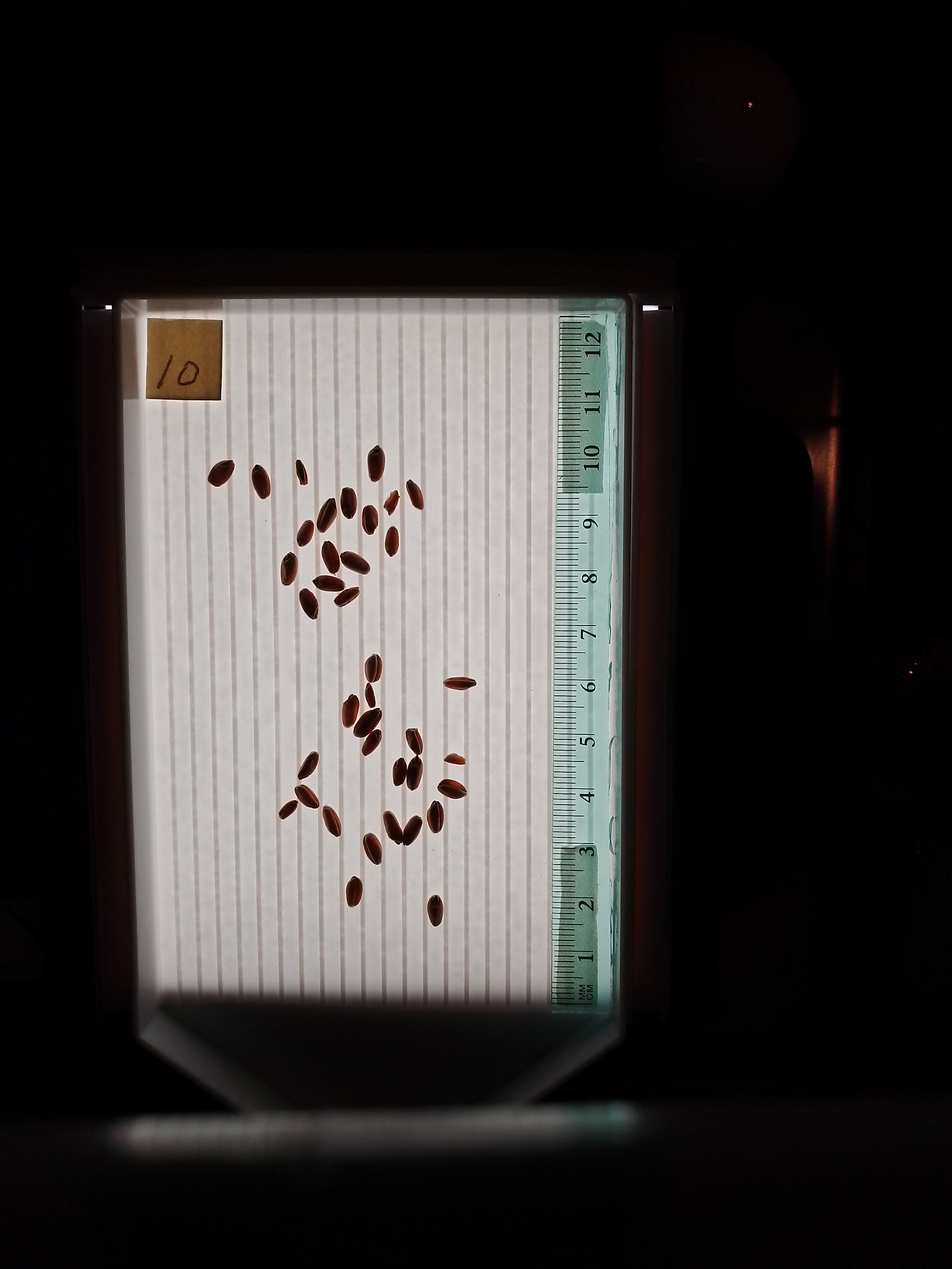seed mask: (354, 708, 382, 738), (208, 460, 235, 487), (367, 445, 386, 481), (317, 498, 337, 532), (363, 833, 383, 865), (342, 552, 370, 574), (322, 805, 341, 837), (384, 812, 403, 844), (402, 815, 422, 845), (252, 466, 270, 499), (300, 589, 319, 619), (427, 800, 444, 833), (322, 542, 340, 573), (280, 554, 297, 586), (407, 757, 423, 791), (342, 695, 359, 727), (439, 779, 466, 799), (296, 786, 319, 809), (427, 895, 444, 926), (314, 575, 343, 593), (362, 505, 379, 535), (407, 480, 424, 510), (362, 731, 382, 756), (299, 753, 319, 778), (341, 487, 357, 518), (365, 655, 382, 683), (346, 878, 362, 907), (406, 728, 423, 754), (335, 587, 358, 606), (445, 676, 476, 690), (297, 521, 314, 546), (392, 759, 407, 787), (384, 491, 400, 515), (279, 800, 297, 819), (296, 460, 308, 485), (446, 753, 465, 765), (365, 686, 375, 707)
